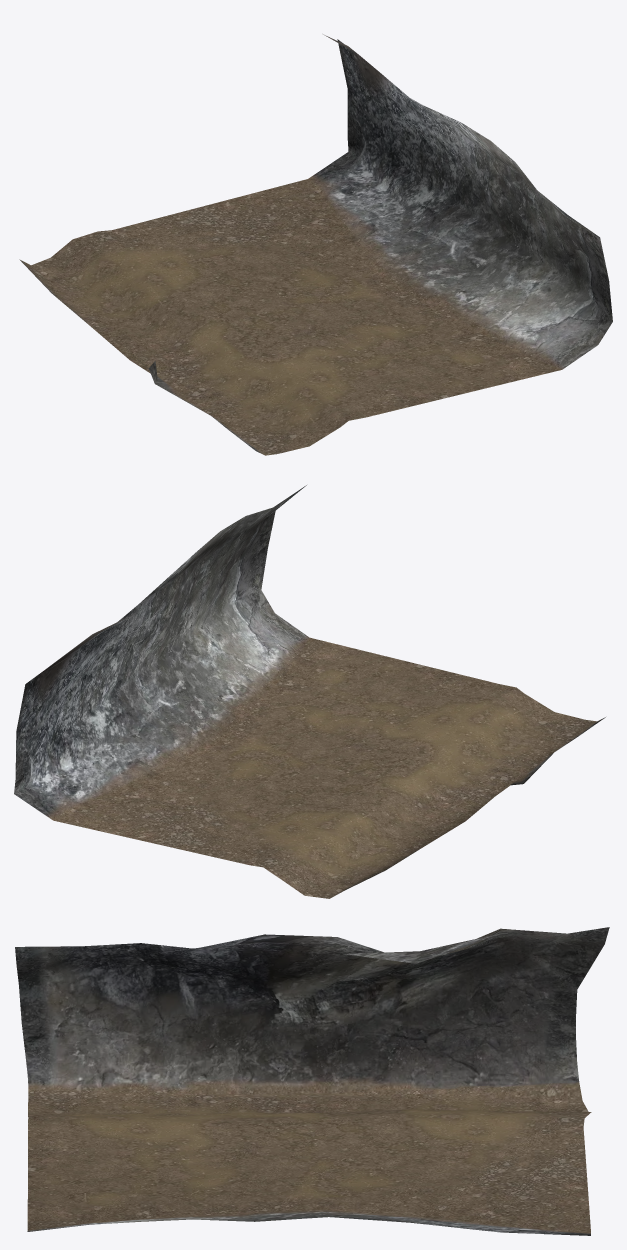
Rendered from TunnelA3.glb.
The picture shows the model from 3 angles, top to bottom: view 1: azimuth 30°, elevation 25°; view 2: azimuth 150°, elevation 25°; view 3: azimuth 270°, elevation 25°; orthographic projection. The views are drawn at different scales.
Parts seen in each view (by area): view 1: TunnelA3; view 2: TunnelA3; view 3: TunnelA3.
Boxes of the visible parts, x1,y1,x2,y2 form: TunnelA3: (19,34,612,455); TunnelA3: (14,485,605,898); TunnelA3: (15,927,609,1235).
Size of the model in its own units: 4.31 by 2.14 by 5.52.
Materials: 1 (1 with a texture image).
